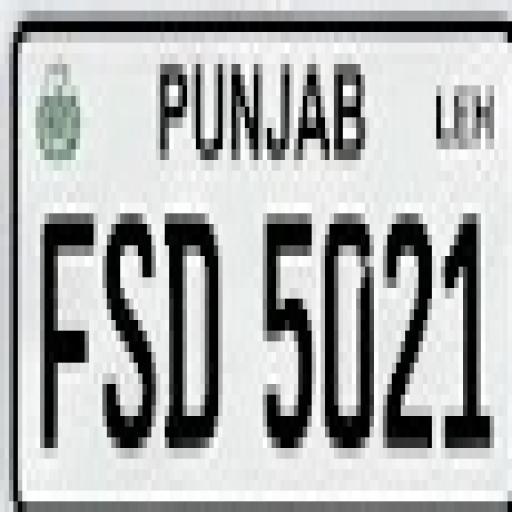0: (323, 204, 375, 446)
1: (438, 211, 500, 477)
2: (384, 200, 432, 468)
5: (260, 220, 315, 447)
D: (159, 205, 221, 460)
F: (34, 205, 100, 468)
S: (102, 218, 156, 460)
